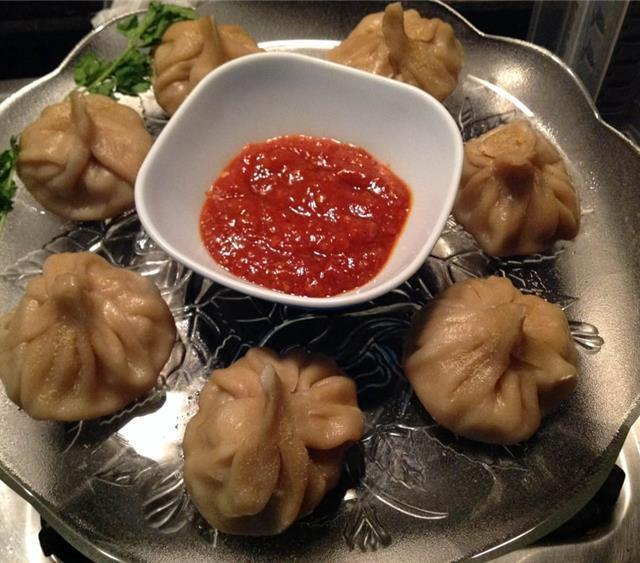momos: (182, 349, 364, 536), (0, 252, 176, 421), (404, 278, 578, 443), (20, 74, 150, 243), (16, 91, 152, 221), (454, 119, 580, 256), (329, 2, 464, 101), (152, 16, 260, 114)
